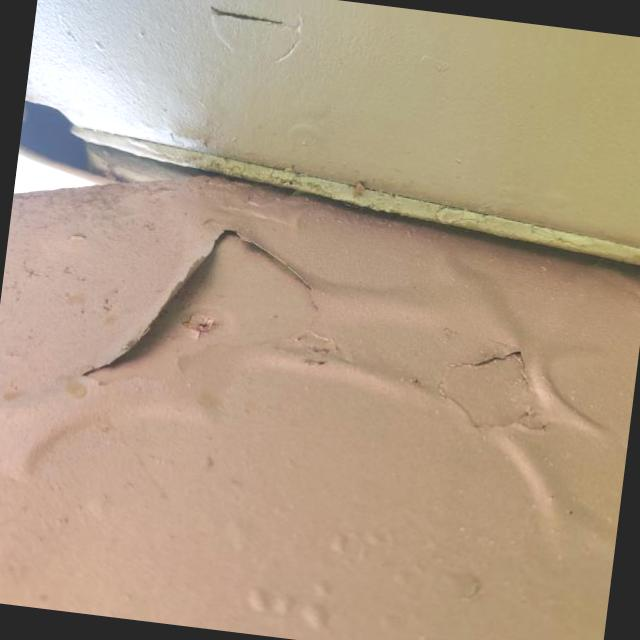paint-off: (61, 200, 341, 436), (424, 324, 554, 447)
